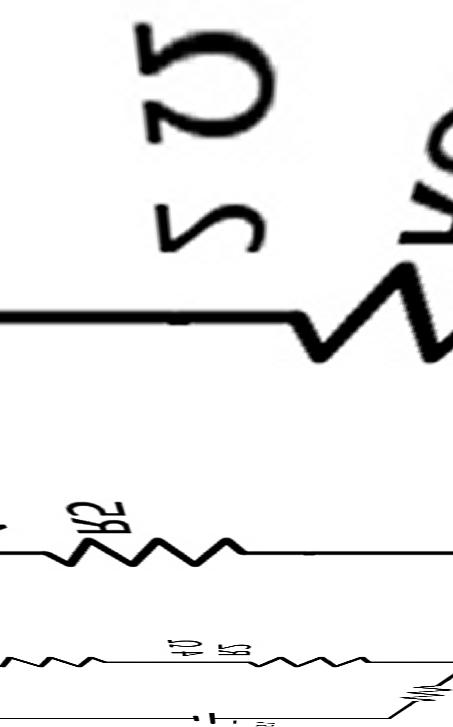resistor: (27, 511, 253, 600), (233, 639, 375, 680), (0, 635, 107, 688)
